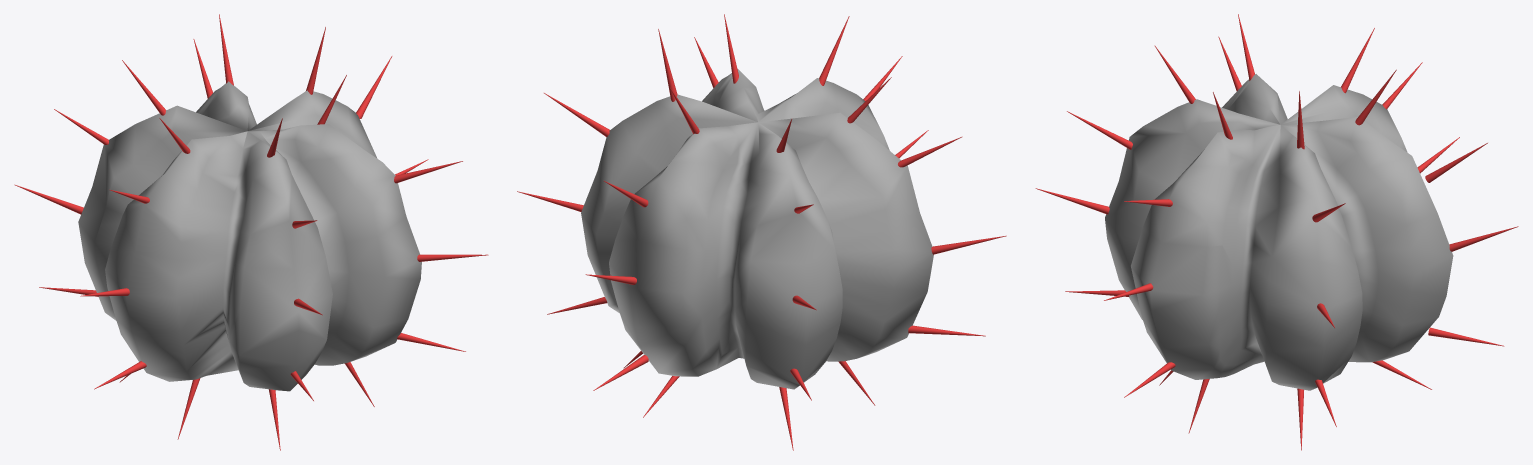
Rendered from spiky_fruit_lp.fbx.
The picture shows the model from 3 angles, left to right: view 1: azimuth 30°, elevation 25°; view 2: azimuth 150°, elevation 25°; view 3: azimuth 270°, elevation 25°; orthographic projection. The views are drawn at different scales.
Visible parts, largest first — view 1: spiky_fruit_lp; view 2: spiky_fruit_lp; view 3: spiky_fruit_lp.
Boxes of the visible parts, left/top/right/bottom form: spiky_fruit_lp: left=14, top=14, right=488, bottom=450; spiky_fruit_lp: left=517, top=14, right=1006, bottom=450; spiky_fruit_lp: left=1035, top=14, right=1518, bottom=450.
Size of the model in its own units: 322 by 258 by 321.
